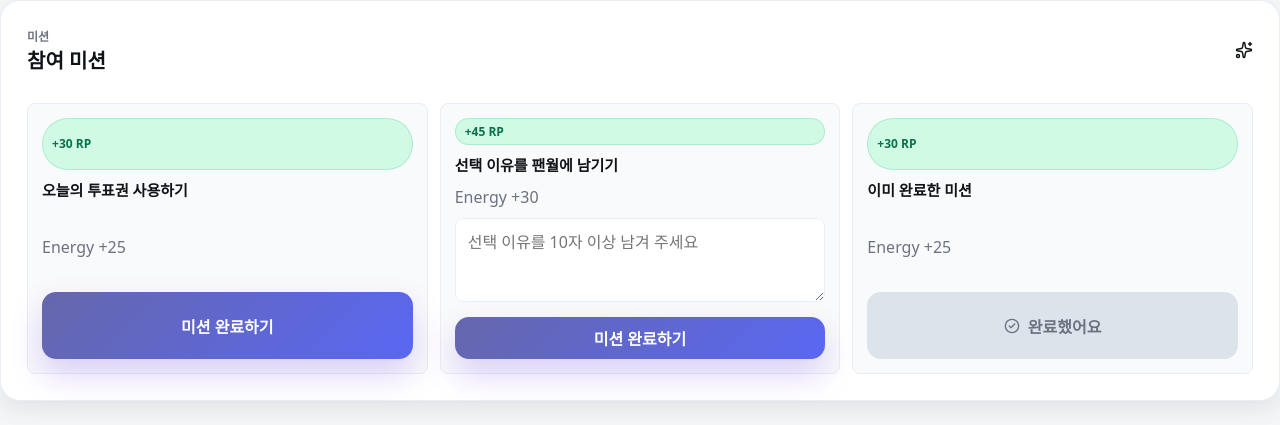
Test case: MissionList › sends only mission identity and text, then displays rewards from the response
The width and height of the screenshot is (1280, 425).
Type "이 장면을 다시 보고 싶어서 남겨요" into the text box named "선택 이유를 팬월에 남기기 입력" at point(640, 260), box 455,218 -> 825,302
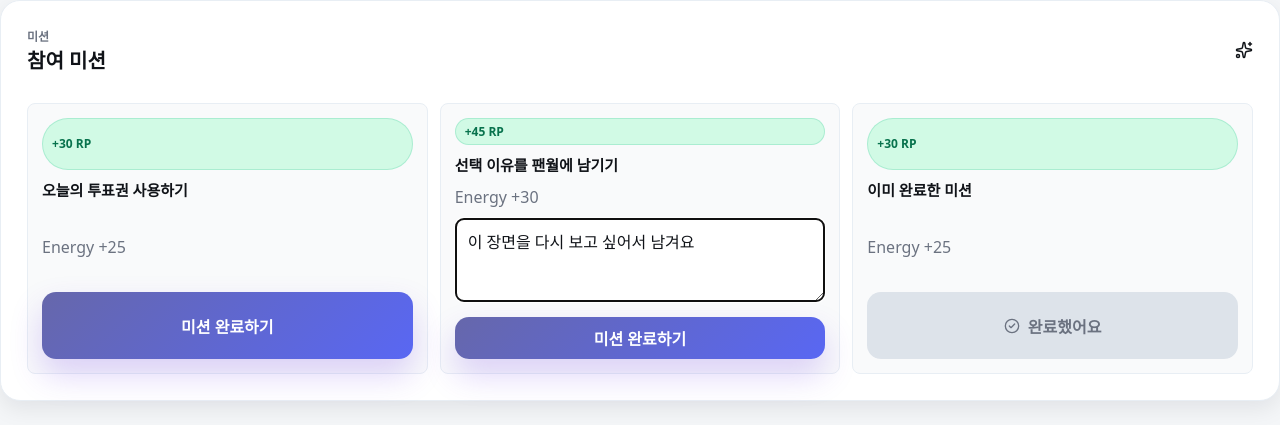
Click the button "미션 완료하기" below "선택 이유를 팬월에 남기기" at point(640, 338), box 455,317 -> 825,359
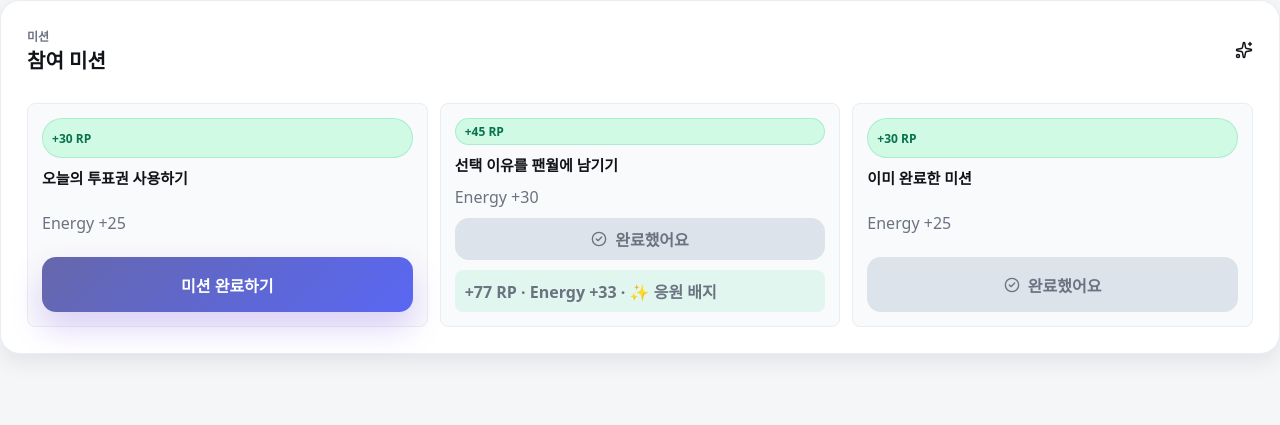
Check: the message shows "+77 RP", box 455,270 -> 825,312
Check: the message shows "Energy +33", box 455,270 -> 825,312
Check: the message shows "✨", box 617,281 -> 717,303
